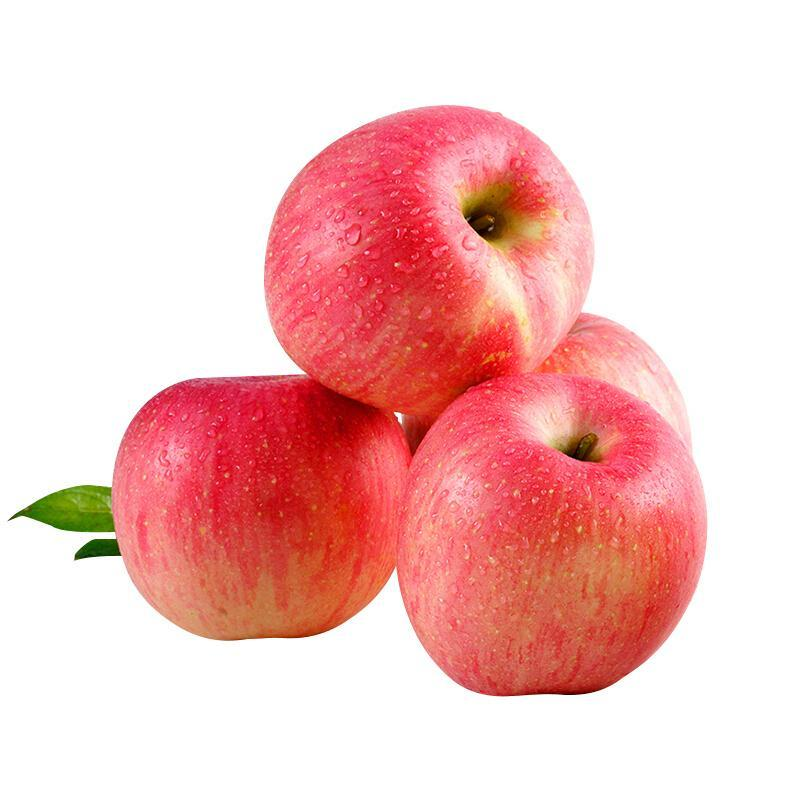apple: (261, 99, 599, 414), (383, 372, 709, 695), (115, 378, 412, 638), (538, 314, 697, 463)
